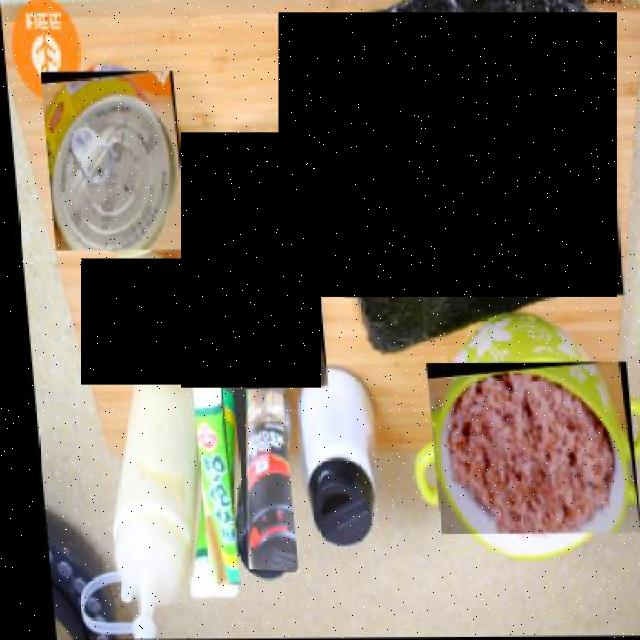Avocado: (180, 133, 320, 387)
Onion: (80, 259, 188, 384)
seaweed: (279, 12, 618, 297)
